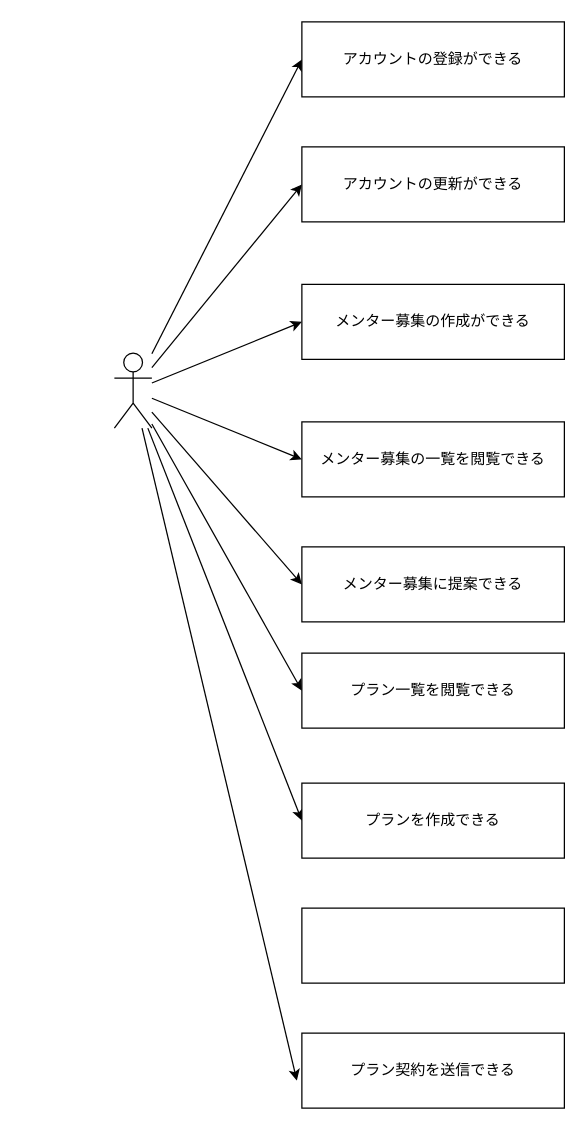
The diagram is 586 pixels wide and 1130 high, and some of its shapes have lost their labels. Each missing label, with the box of its shape:
プラン契約リクエストを送信できる: (301, 907, 564, 983)
ユーザー（メンター、メンティ）: (113, 352, 152, 428)
